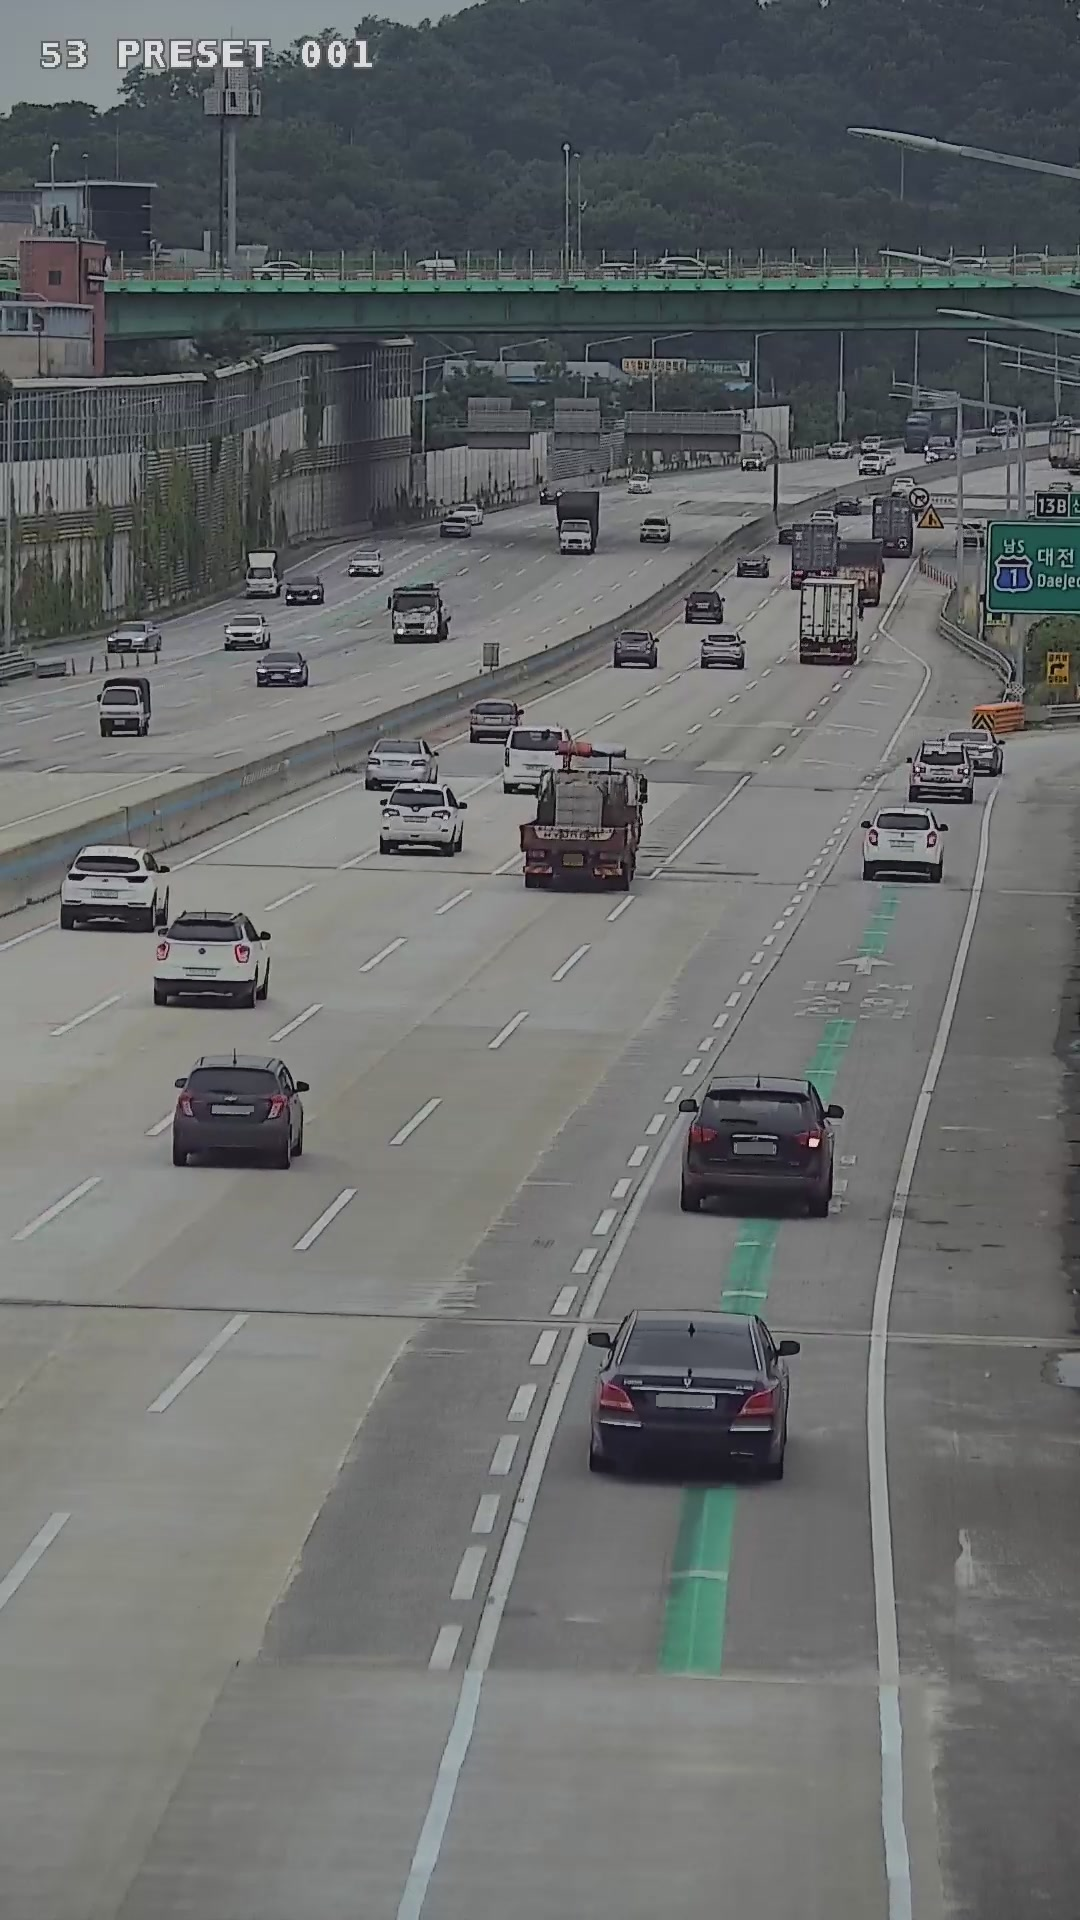Knife: (509, 754, 637, 889)
Scissors: (563, 1312, 799, 1481)
